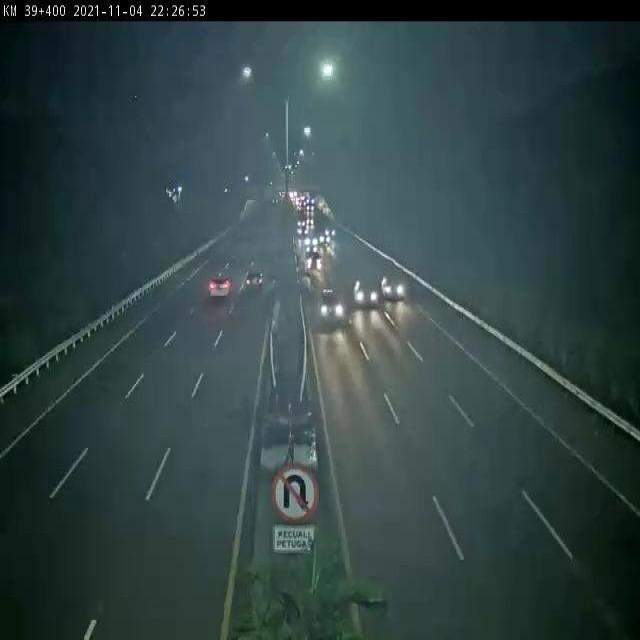car: (317, 288, 342, 323), (354, 276, 379, 309), (207, 272, 232, 299), (381, 272, 402, 303), (243, 268, 268, 293)
